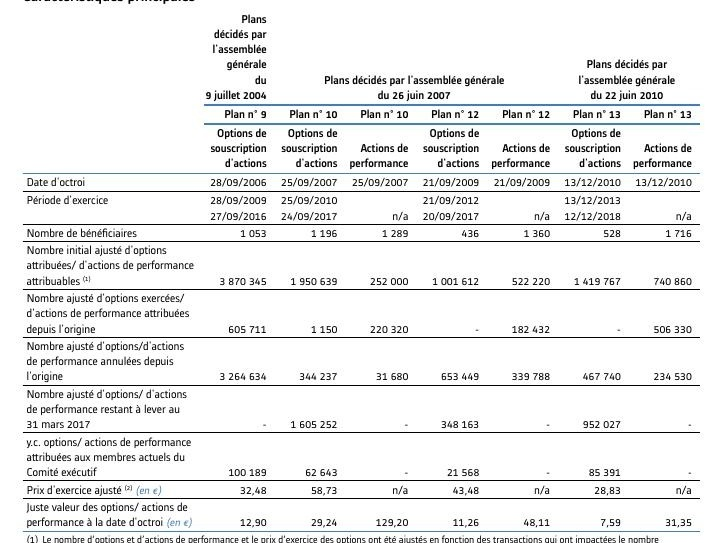table: (0, 0, 722, 543)
